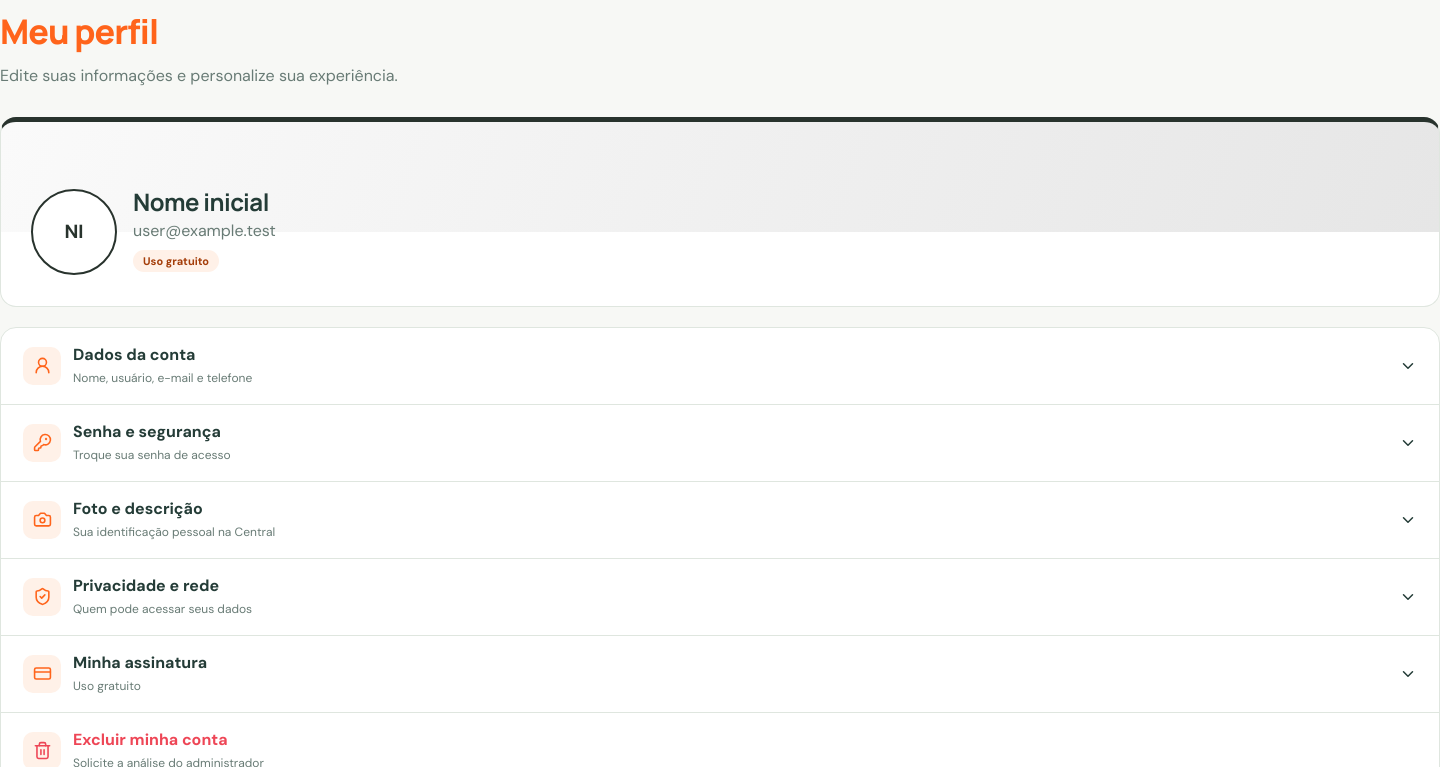
Test: exibe o e-mail da sessão e salva o nome no perfil da própria conta
Expected: the text "user@example.test" is shown, x1=133 y1=218 x2=276 y2=244
Click the text "Dados da conta": {"x": 134, "y": 355} x1=73 y1=344 x2=196 y2=365
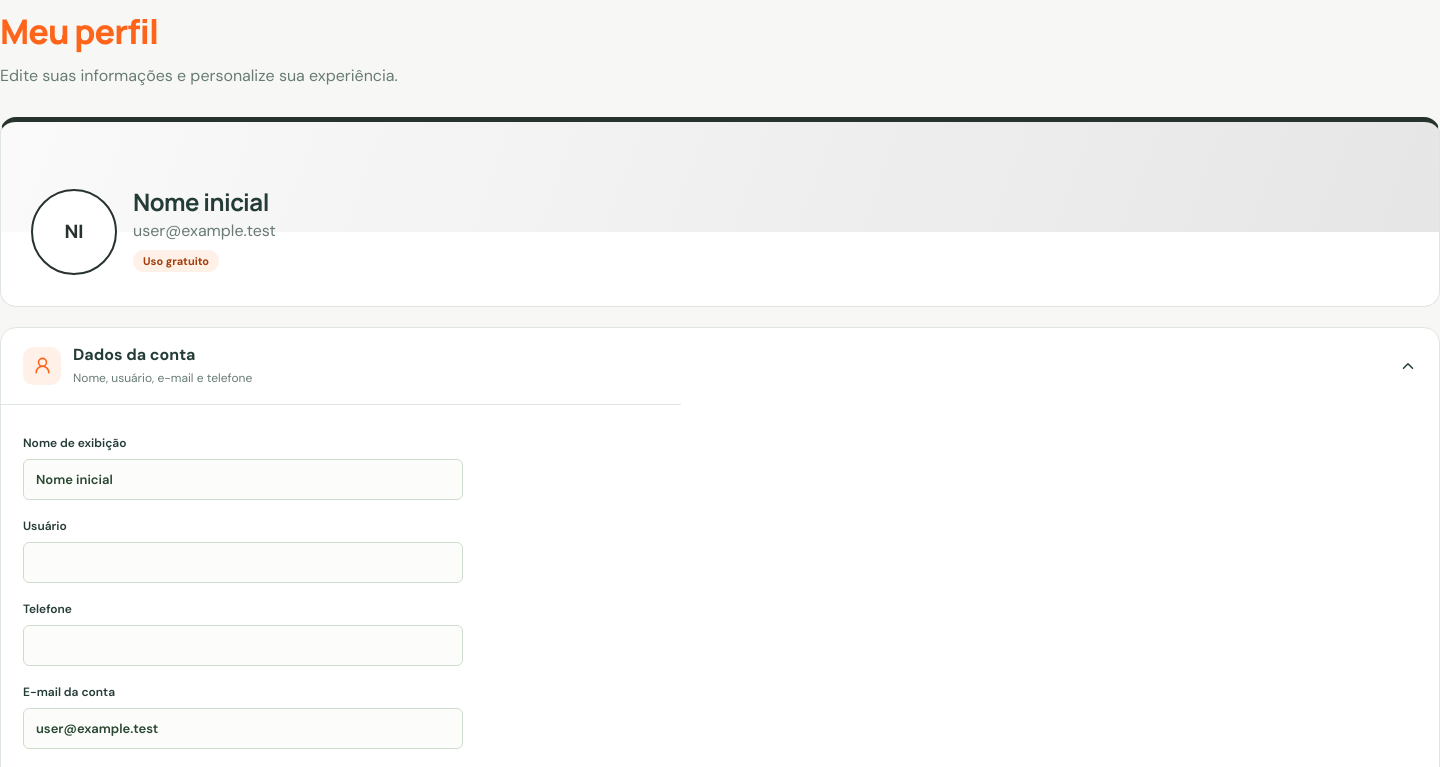
Replace the text in the field labelled "Nome de exibição" with "Nome atualizado": {"x": 243, "y": 479} x1=23 y1=459 x2=463 y2=500
(page scrolled)
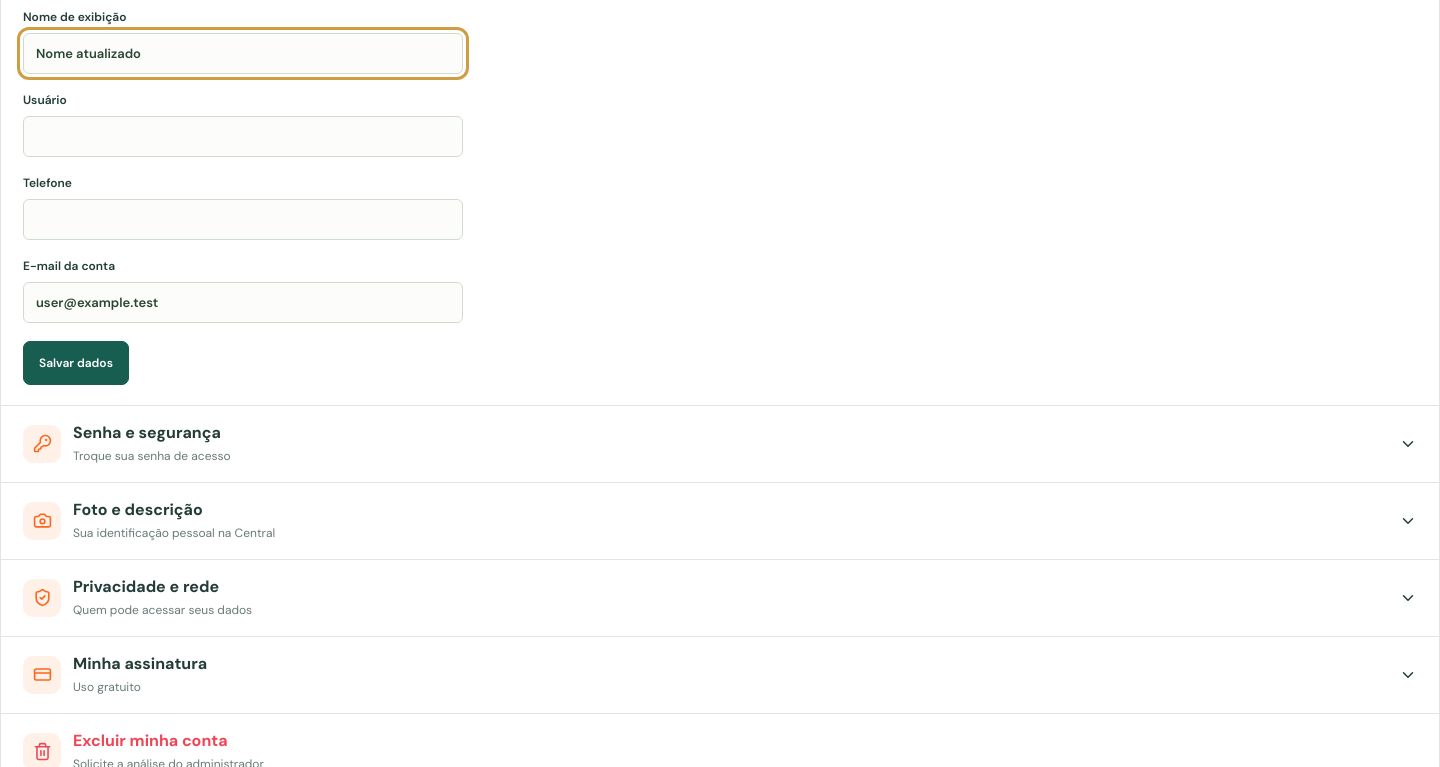
Click the button "Salvar dados": {"x": 76, "y": 363} x1=23 y1=341 x2=129 y2=385
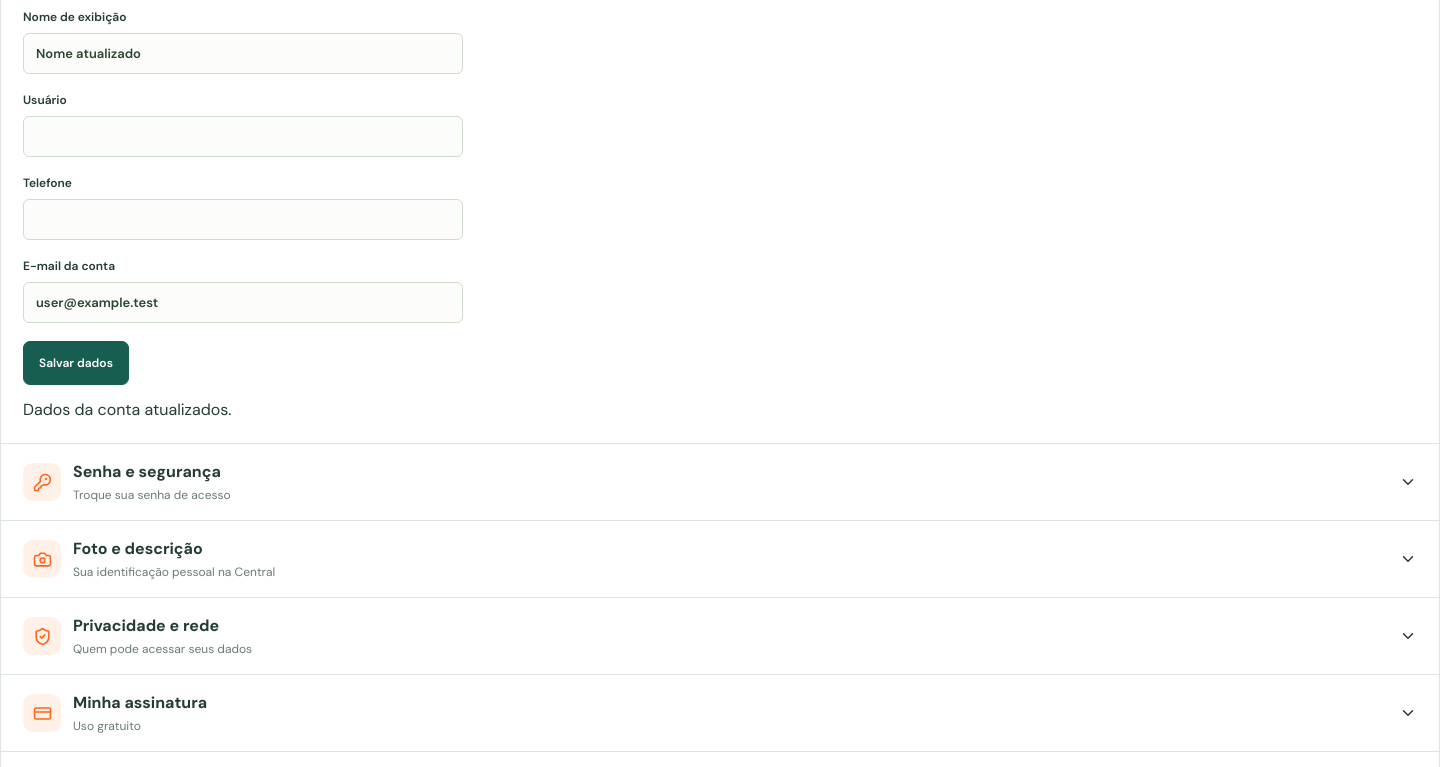
Expected: the message reads "Dados da conta atualizados.", x1=23 y1=399 x2=231 y2=420
